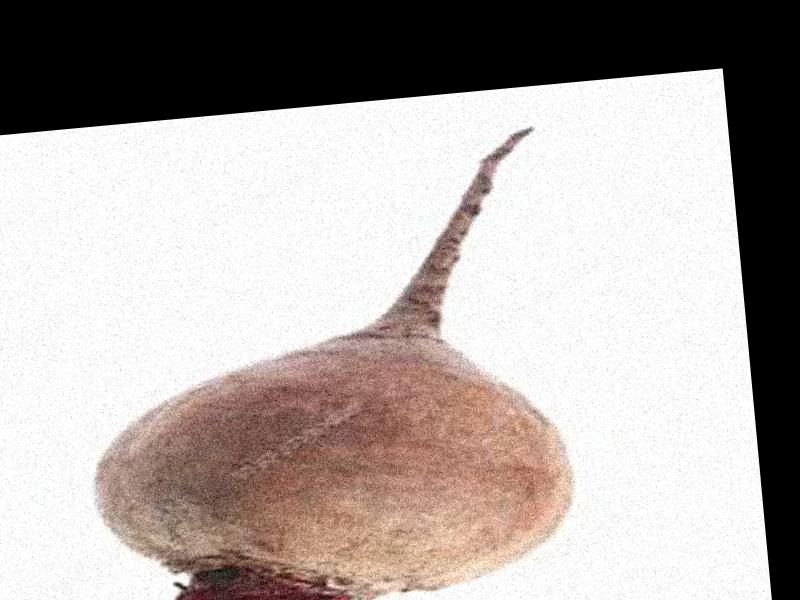Beet: (56, 126, 586, 600)
